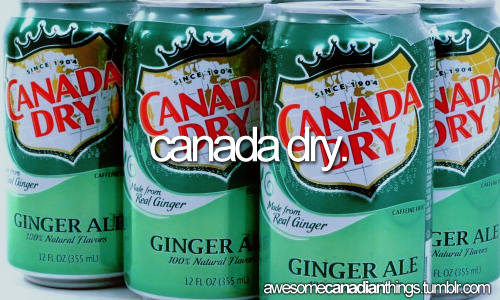Lata: (1, 1, 134, 292)
